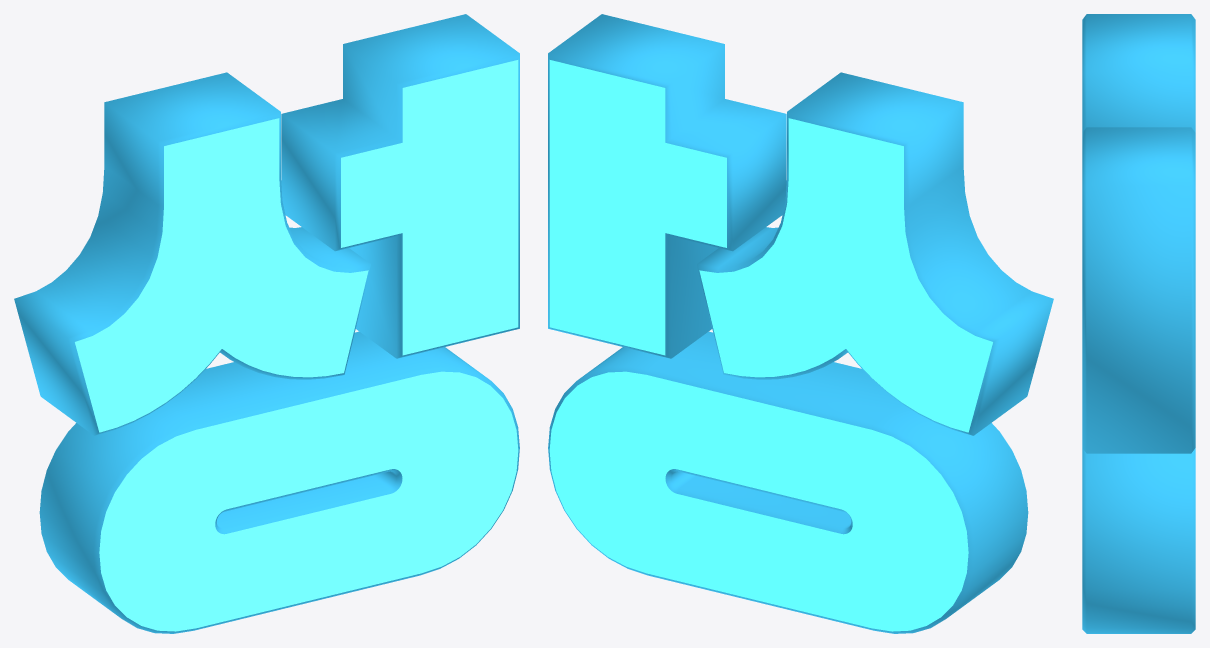
3 views of the same model, side by side, from view 1: azimuth 30°, elevation 25°; view 2: azimuth 150°, elevation 25°; view 3: azimuth 270°, elevation 25° (orthographic). The views are drawn at different scales.
Parts seen in each view (by area): view 1: glyph; view 2: glyph; view 3: glyph.
Boxes of the visible parts, x1,y1,x2,y2 form: glyph: [14, 14, 519, 633]; glyph: [548, 14, 1053, 633]; glyph: [1082, 14, 1195, 633].
Size of the model in its own units: 0.0728 by 0.0766 by 0.0162.
